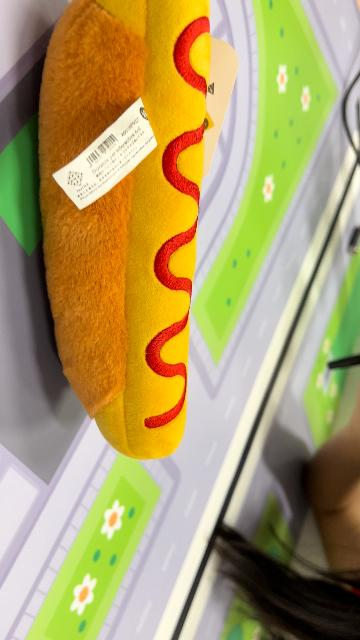hotdog: (36, 2, 214, 462)
